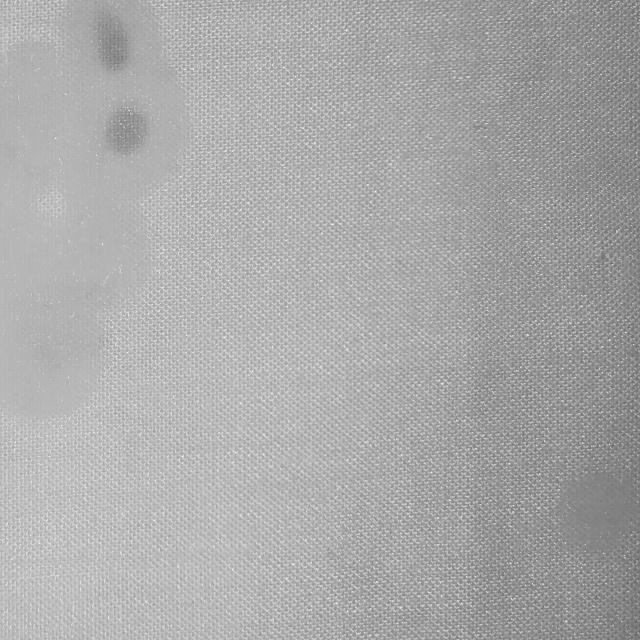Stain: (0, 0, 186, 417), (556, 473, 634, 552)
